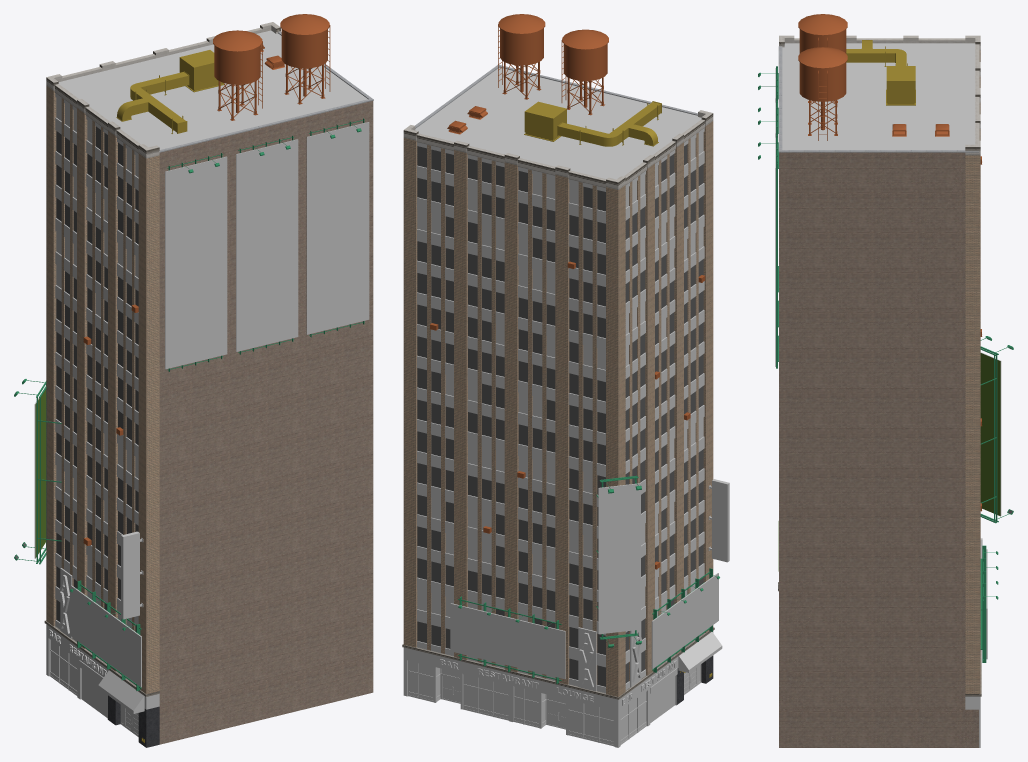
File: mcp_building_31_LOD_0.FBX
3 renders of one model, left to right at view 1: azimuth 30°, elevation 25°; view 2: azimuth 150°, elevation 25°; view 3: azimuth 270°, elevation 25°, orthographic. The views are drawn at different scales.
Parts seen in each view (by area): view 1: mcp_building_31_walls, mcp_building_31_billboards, mcp_building_31, mcp_building_31_props_03, mcp_building_31_props_01, mcp_building_31_metal, mcp_building_31_roll_up_doors; view 2: mcp_building_31_walls, mcp_building_31, mcp_building_31_billboards, mcp_building_31_props_03, mcp_building_31_props_01, mcp_building_31_metal, mcp_building_31_roll_up_doors; view 3: mcp_building_31_walls, mcp_building_31_billboards, mcp_building_31_props_03, mcp_building_31_props_01, mcp_building_31_metal.
Boxes of the visible parts, x1,y1,x2,y2 form: mcp_building_31_walls: (44,22,373,747); mcp_building_31_billboards: (14,118,369,690); mcp_building_31: (46,97,159,736); mcp_building_31_props_03: (83,14,330,545); mcp_building_31_props_01: (116,50,224,742); mcp_building_31_metal: (159,32,373,152); mcp_building_31_roll_up_doors: (81,669,107,717); mcp_building_31_walls: (402,67,714,704); mcp_building_31: (403,132,729,747); mcp_building_31_billboards: (450,475,719,683); mcp_building_31_props_03: (430,14,705,569); mcp_building_31_props_01: (524,101,712,677); mcp_building_31_metal: (415,65,697,128); mcp_building_31_roll_up_doors: (650,676,675,722); mcp_building_31_walls: (778,35,981,747); mcp_building_31_billboards: (758,66,1013,662); mcp_building_31_props_03: (798,14,982,511); mcp_building_31_props_01: (846,40,915,105); mcp_building_31_metal: (778,46,978,152).
Size of the model in its own units: 2886 by 7233 by 2479.
